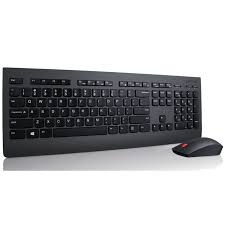keyboard: (0, 66, 202, 156)
mouse: (170, 134, 223, 161)
